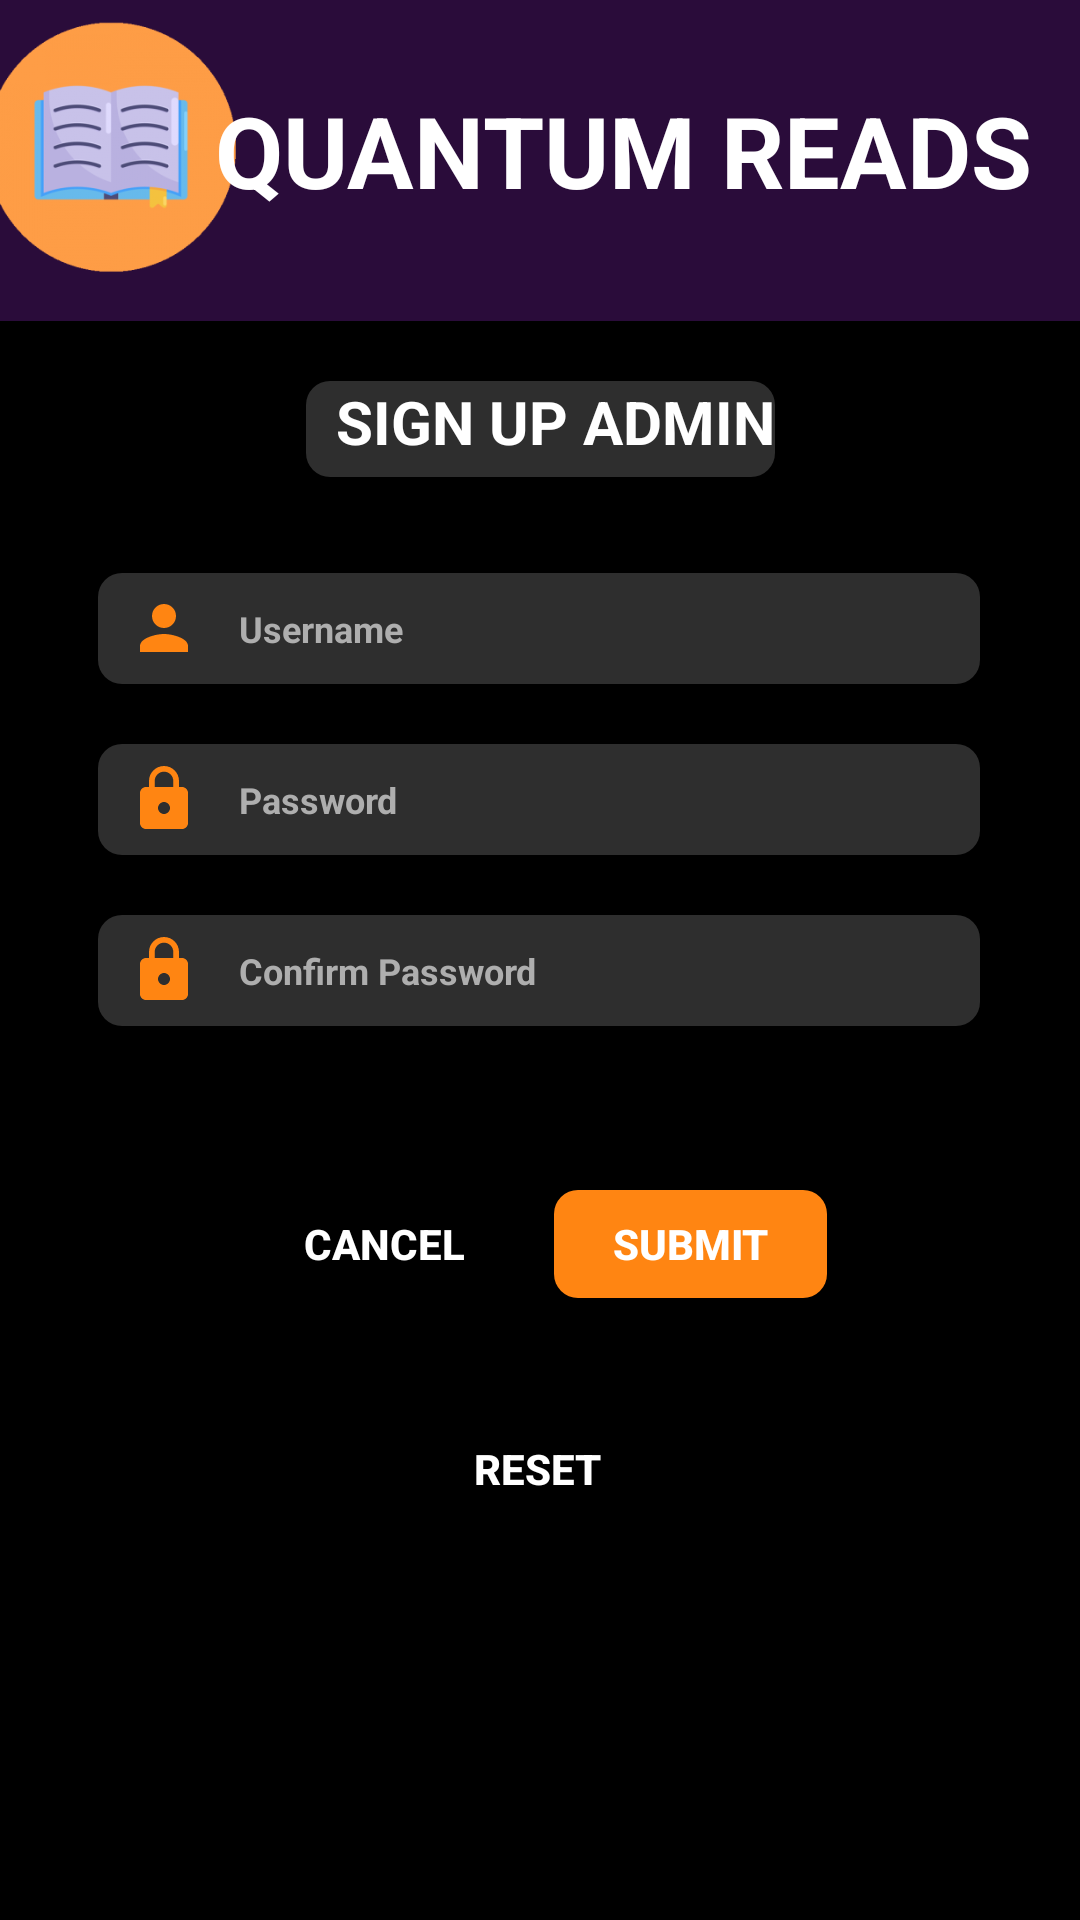

Where to tap for icons on this 1080 × 1920 app screen, as [x,y]:
login buku: [121,147]
